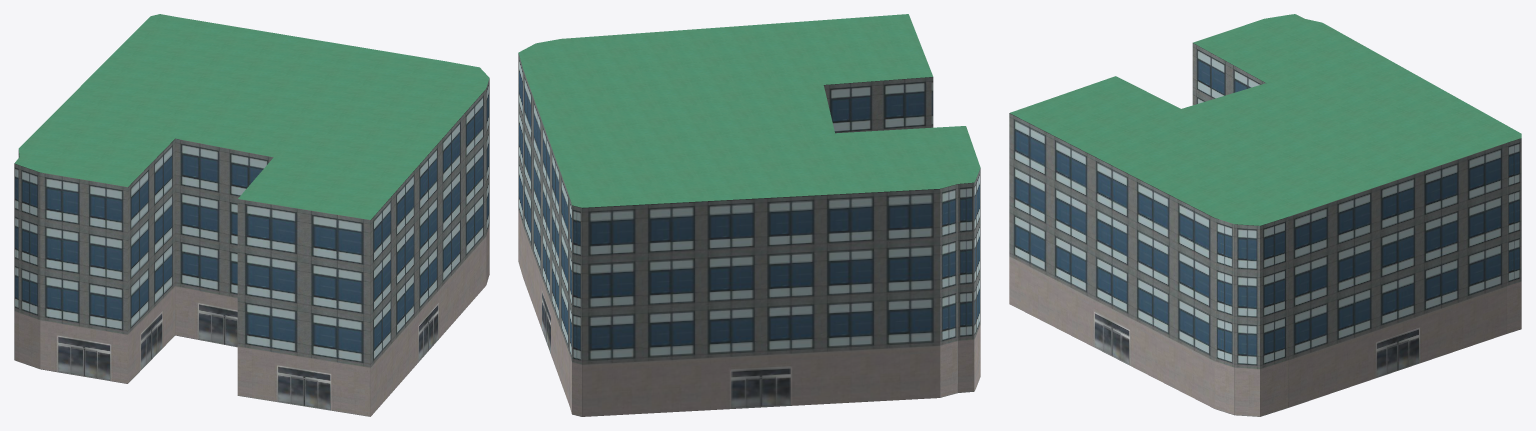
3 renders of one model, left to right at view 1: azimuth 30°, elevation 25°; view 2: azimuth 150°, elevation 25°; view 3: azimuth 270°, elevation 25°, orthographic. The views are drawn at different scales.
Visible parts, largest first — view 1: BuildingMaster_2015193807604462125400000000_0, BuildingMaster_2015193807604462125400000000_1; view 2: BuildingMaster_2015193807604462125400000000_0, BuildingMaster_2015193807604462125400000000_1; view 3: BuildingMaster_2015193807604462125400000000_0, BuildingMaster_2015193807604462125400000000_1.
Boxes of the visible parts, x1,y1,x2,y2 form: BuildingMaster_2015193807604462125400000000_0: (14, 78, 489, 416); BuildingMaster_2015193807604462125400000000_1: (15, 14, 489, 219); BuildingMaster_2015193807604462125400000000_0: (518, 53, 980, 416); BuildingMaster_2015193807604462125400000000_1: (518, 14, 980, 207); BuildingMaster_2015193807604462125400000000_0: (1009, 43, 1521, 416); BuildingMaster_2015193807604462125400000000_1: (1010, 14, 1521, 225).
Size of the model in its own units: 33.29 by 14 by 34.01.
2 materials, 2 textured.
